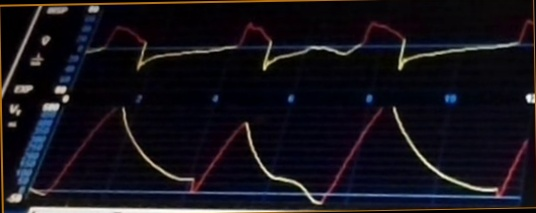Ineffective_effort Flow: (89, 17, 532, 80)
Ineffective_effort Volume: (32, 109, 527, 204)
